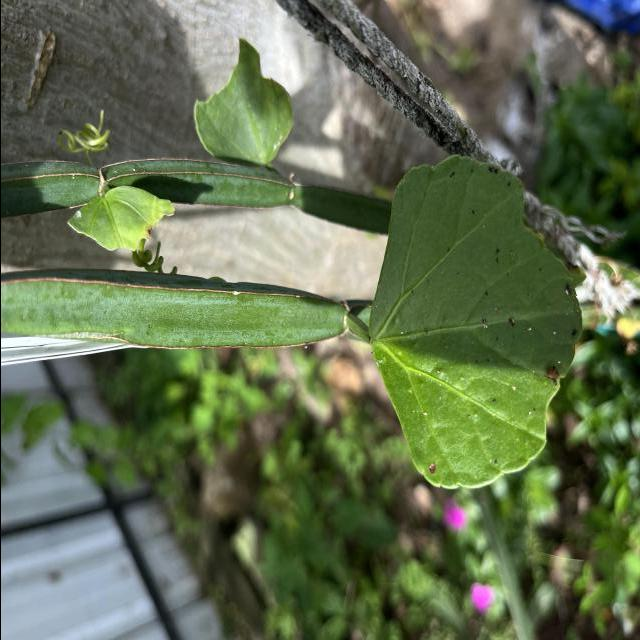Cissus quadrangularis: (362, 151, 584, 494)
